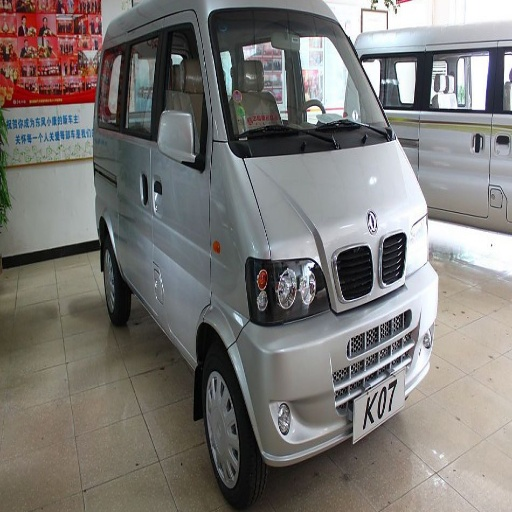front_bumper: (230, 275, 432, 465)
front_right_door: (148, 14, 216, 323)
front_right_light: (252, 259, 326, 324)
